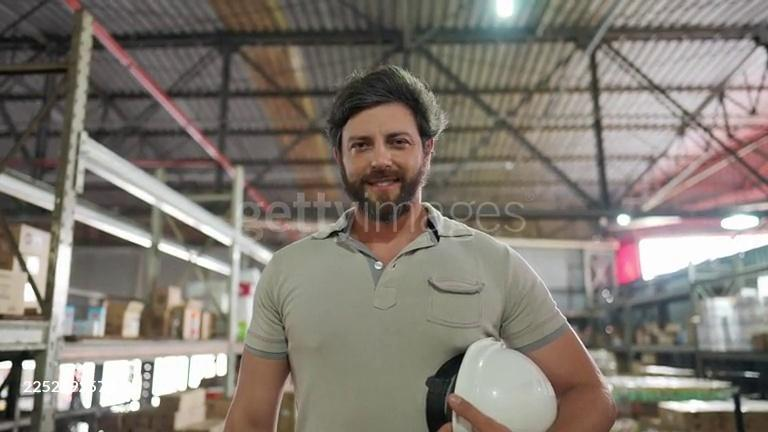helmet: (425, 338, 559, 432)
person: (221, 63, 617, 432)
